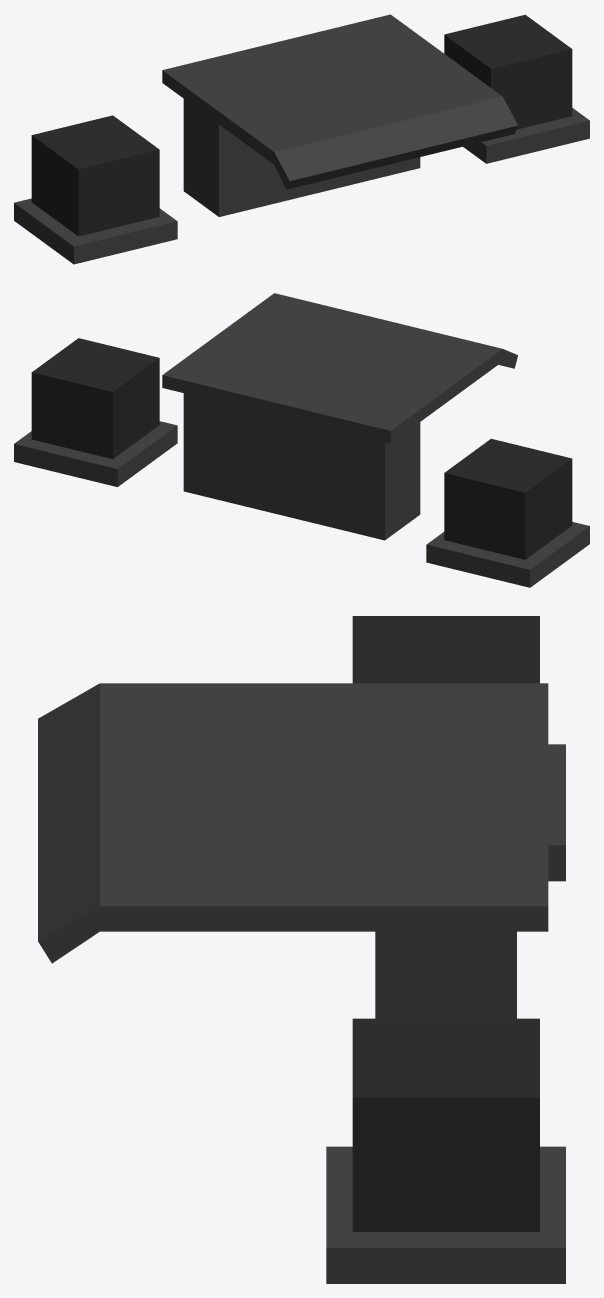
File: Prop_Faucet_01.fbx
3 renders of one model, top to bottom at view 1: azimuth 30°, elevation 25°; view 2: azimuth 150°, elevation 25°; view 3: azimuth 270°, elevation 25°, orthographic. The views are drawn at different scales.
Parts seen in each view (by area): view 1: Prop_Faucet_01; view 2: Prop_Faucet_01; view 3: Prop_Faucet_01.
Boxes of the visible parts, x1,y1,x2,y2 form: Prop_Faucet_01: [14, 14, 589, 264]; Prop_Faucet_01: [14, 293, 589, 587]; Prop_Faucet_01: [38, 616, 565, 1283].
Bounding box in the file's own units: 37.67 × 8.28 × 16.68.
